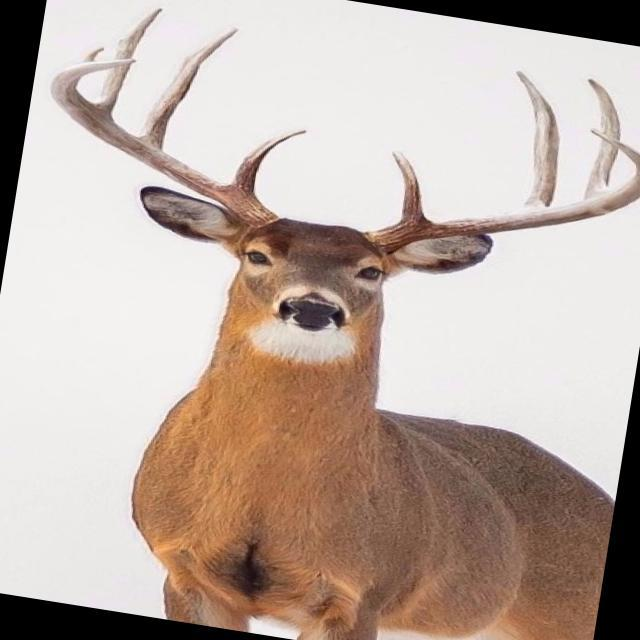L-F: (366, 128, 640, 254)
L-G1: (392, 150, 426, 225)
L-G2: (514, 70, 560, 209)
R-F: (50, 58, 269, 226)
R-G1: (230, 130, 309, 195)
R-G2: (141, 26, 241, 151)
